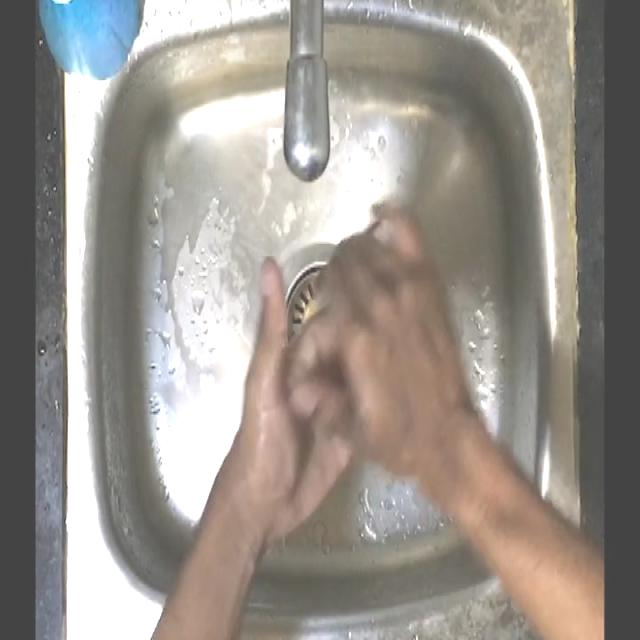step_5: (233, 204, 460, 548)
